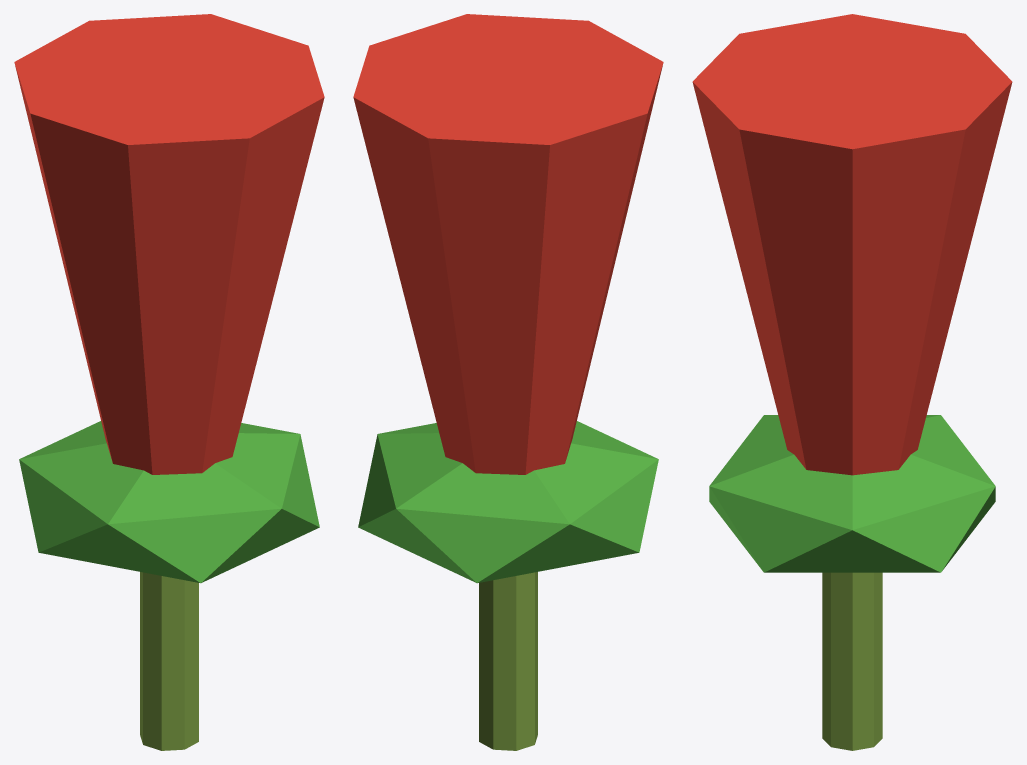
Rendered from harvest_drop_pepper.glb.
The picture shows the model from 3 angles, left to right: view 1: azimuth 30°, elevation 25°; view 2: azimuth 150°, elevation 25°; view 3: azimuth 270°, elevation 25°; orthographic projection.
Visible parts, largest first — view 1: FTF_Harvest_Drop_Chili_Mesh; view 2: FTF_Harvest_Drop_Chili_Mesh; view 3: FTF_Harvest_Drop_Chili_Mesh.
Part boxes in pixels (bbox=[...]): FTF_Harvest_Drop_Chili_Mesh: bbox=[14, 14, 324, 750]; FTF_Harvest_Drop_Chili_Mesh: bbox=[353, 14, 663, 750]; FTF_Harvest_Drop_Chili_Mesh: bbox=[692, 14, 1012, 750].
Size of the model in its own units: 0.19 by 0.43 by 0.19.
